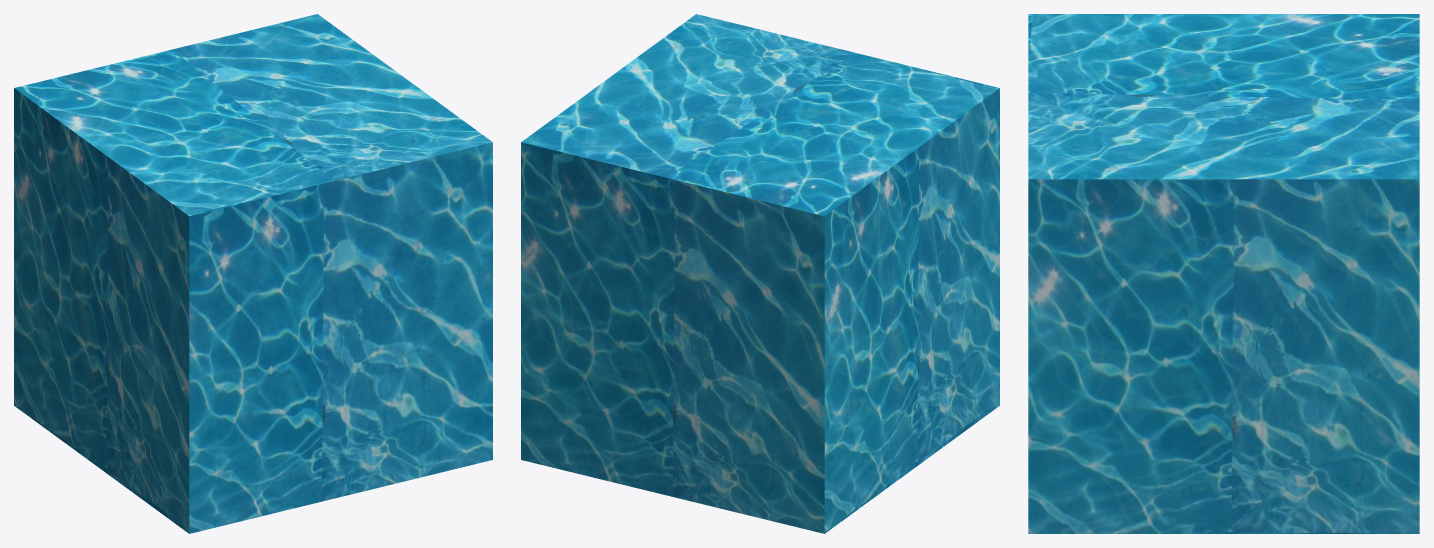
File: shallow_water2.glb
The picture shows the model from 3 angles, left to right: view 1: azimuth 30°, elevation 25°; view 2: azimuth 150°, elevation 25°; view 3: azimuth 270°, elevation 25°; orthographic projection. The views are drawn at different scales.
Visible parts, largest first — view 1: Block_Grass; view 2: Block_Grass; view 3: Block_Grass.
Boxes of the visible parts, x1,y1,x2,y2 form: Block_Grass: (14, 14, 492, 533); Block_Grass: (521, 14, 999, 533); Block_Grass: (1028, 14, 1419, 533).
Bounding box in the file's own units: 2 × 2 × 2.
Materials: 1 (1 with a texture image).
